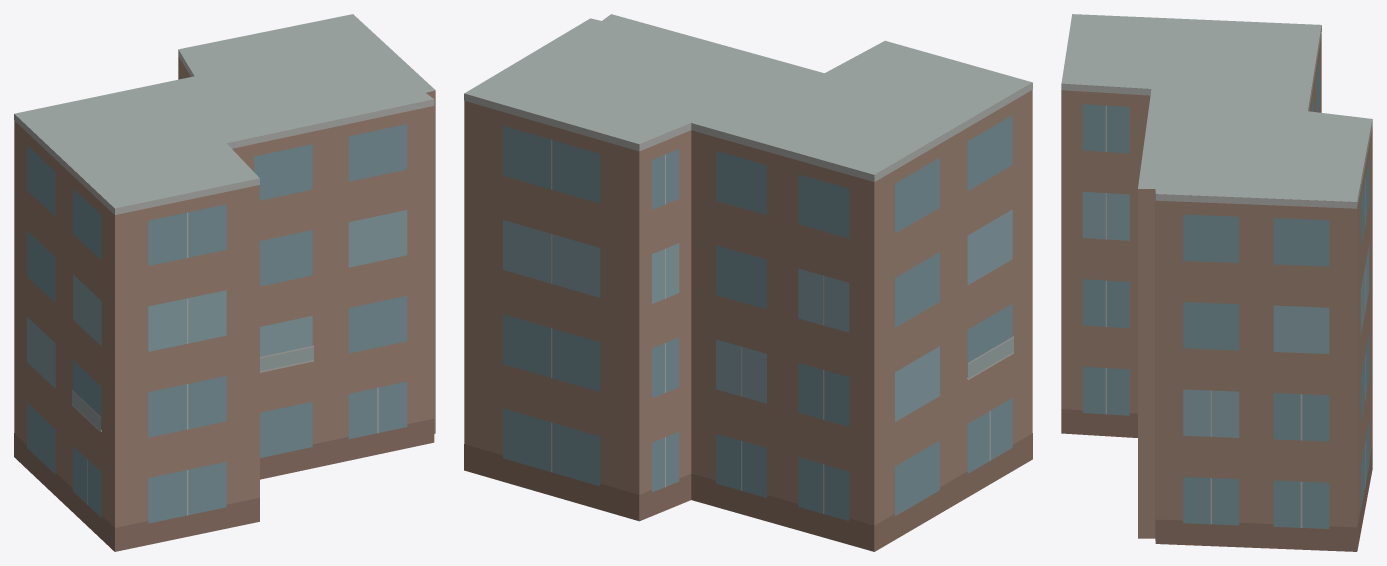
The model's file is survey-upis-32465289.glb.
The picture shows the model from 3 angles, left to right: view 1: azimuth 30°, elevation 25°; view 2: azimuth 150°, elevation 25°; view 3: azimuth 270°, elevation 25°; orthographic projection. The views are drawn at different scales.
Parts seen in each view (by area): view 1: survey-upis-32465289.tmp; view 2: survey-upis-32465289.tmp; view 3: survey-upis-32465289.tmp.
Boxes of the visible parts, x1,y1,x2,y2 form: survey-upis-32465289.tmp: (14,14,435,551); survey-upis-32465289.tmp: (464,14,1032,551); survey-upis-32465289.tmp: (1061,14,1372,551).
Size of the model in its own units: 14.76 by 12.8 by 10.33.
